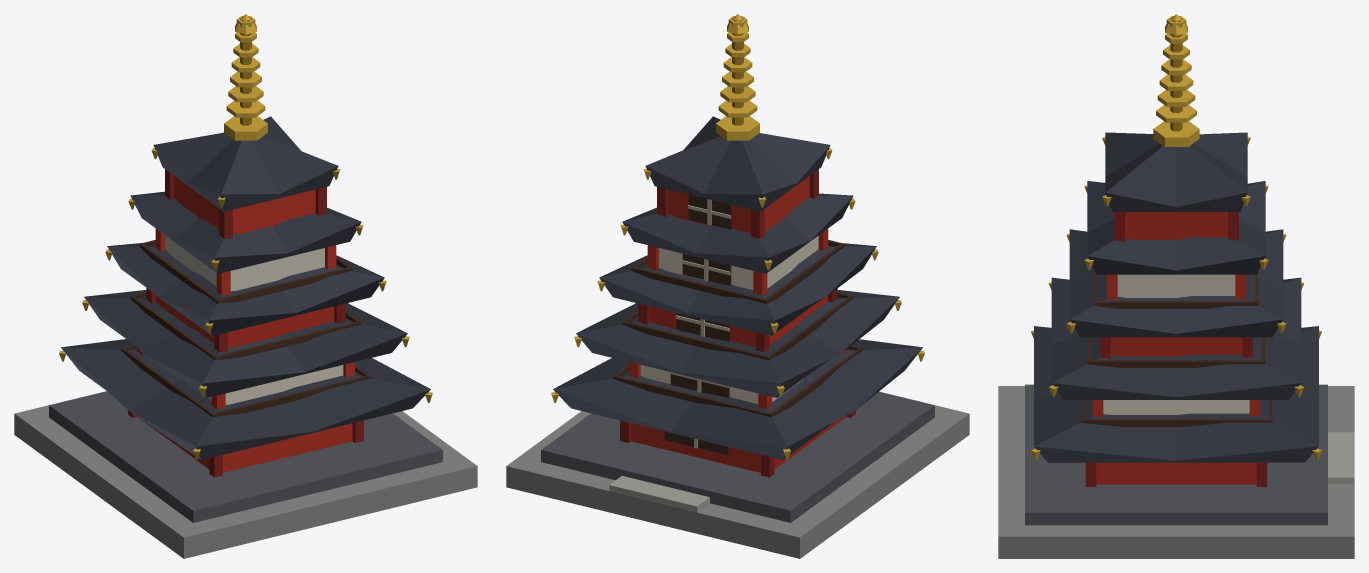
The model's file is Decor_SamuraiShrine_Pagoda.fbx.
3 renders of one model, left to right at view 1: azimuth 30°, elevation 25°; view 2: azimuth 150°, elevation 25°; view 3: azimuth 270°, elevation 25°, orthographic. The views are drawn at different scales.
Parts seen in each view (by area): view 1: Pagoda_Body; view 2: Pagoda_Body; view 3: Pagoda_Body.
Part boxes in pixels (left/top/right/bottom): Pagoda_Body: left=14, top=14, right=477, bottom=558; Pagoda_Body: left=506, top=14, right=969, bottom=558; Pagoda_Body: left=998, top=14, right=1354, bottom=558.
Size of the model in its own units: 20 by 29.1 by 20.
